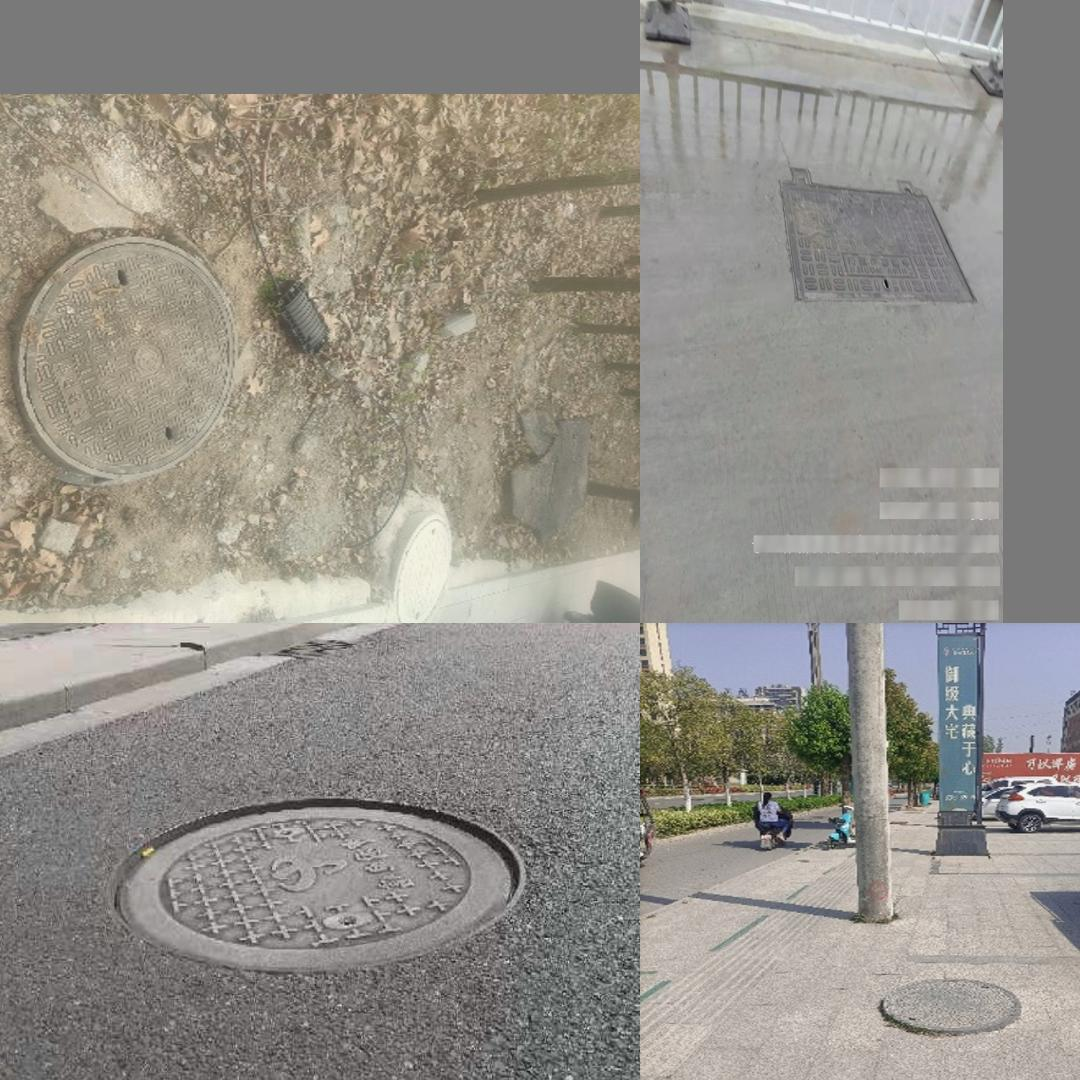good: (91, 784, 532, 993), (12, 235, 238, 478), (768, 173, 981, 311), (881, 977, 1019, 1035)
